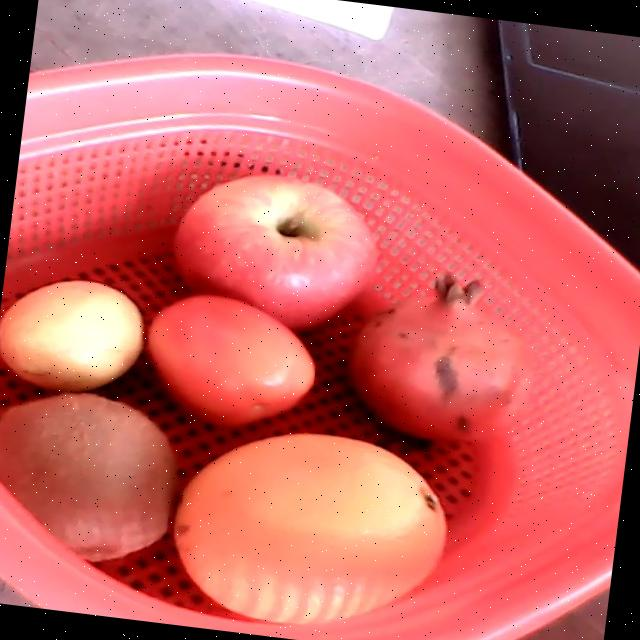apple: (168, 172, 375, 329)
kiwi: (0, 392, 174, 560)
lemon: (0, 280, 143, 389)
orange: (173, 433, 445, 623)
pomegranate: (348, 269, 532, 453)
tomato: (146, 294, 314, 424)
